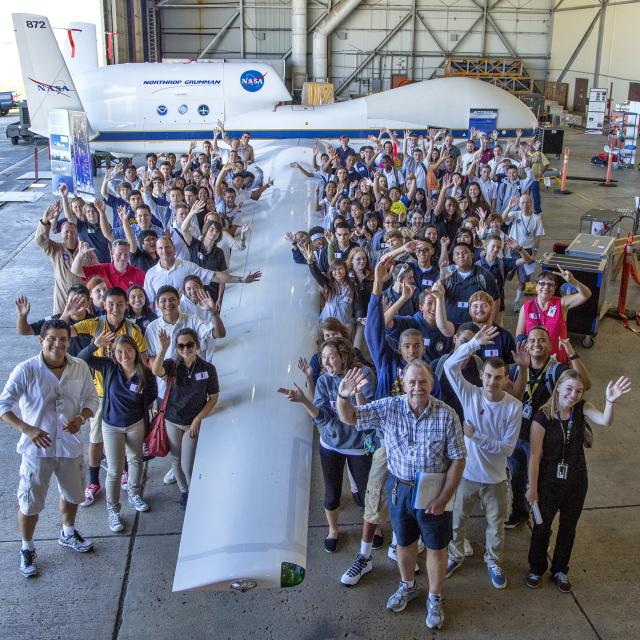MIL_Plane: (11, 13, 538, 594)
